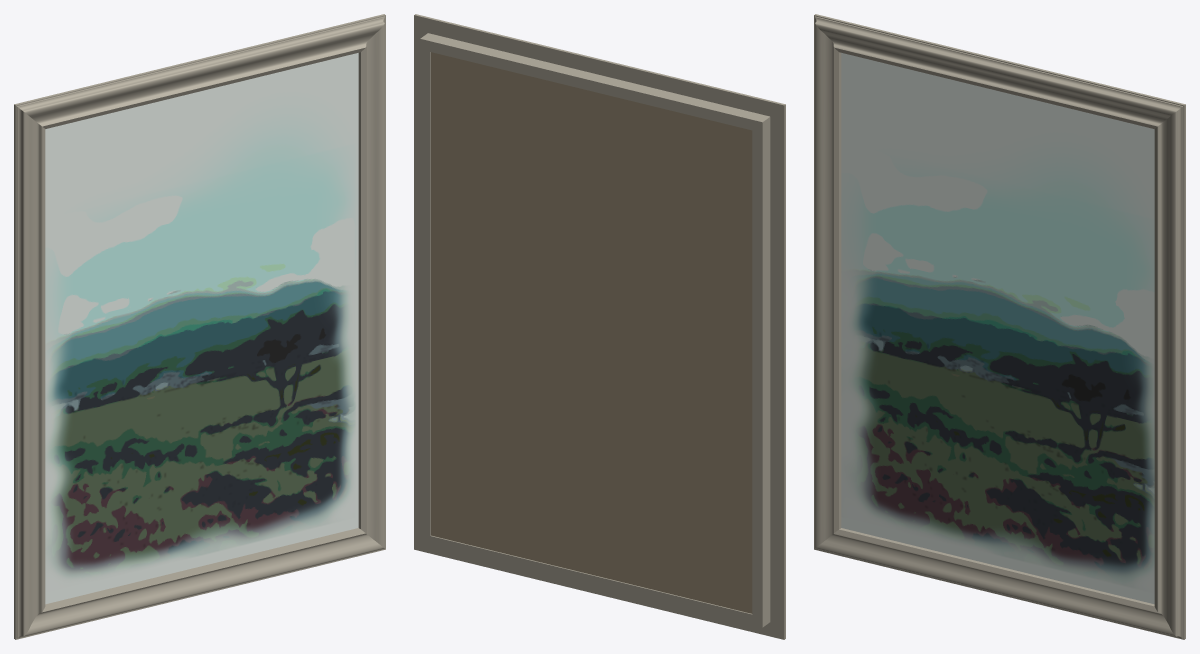
The model's file is 371_額縁大.glb.
3 views of the same model, side by side, from view 1: azimuth 30°, elevation 25°; view 2: azimuth 150°, elevation 25°; view 3: azimuth 330°, elevation 25° (orthographic).
Parts seen in each view (by area): view 1: Body4; view 2: Body4; view 3: Body4.
Part boxes in pixels (x1=…): Body4: x1=14, y1=14, x2=385, y2=639; Body4: x1=414, y1=14, x2=785, y2=639; Body4: x1=814, y1=14, x2=1185, y2=639.
Size of the model in its own units: 0.727 by 1 by 0.0445.
Materials: 4 (1 with a texture image).
